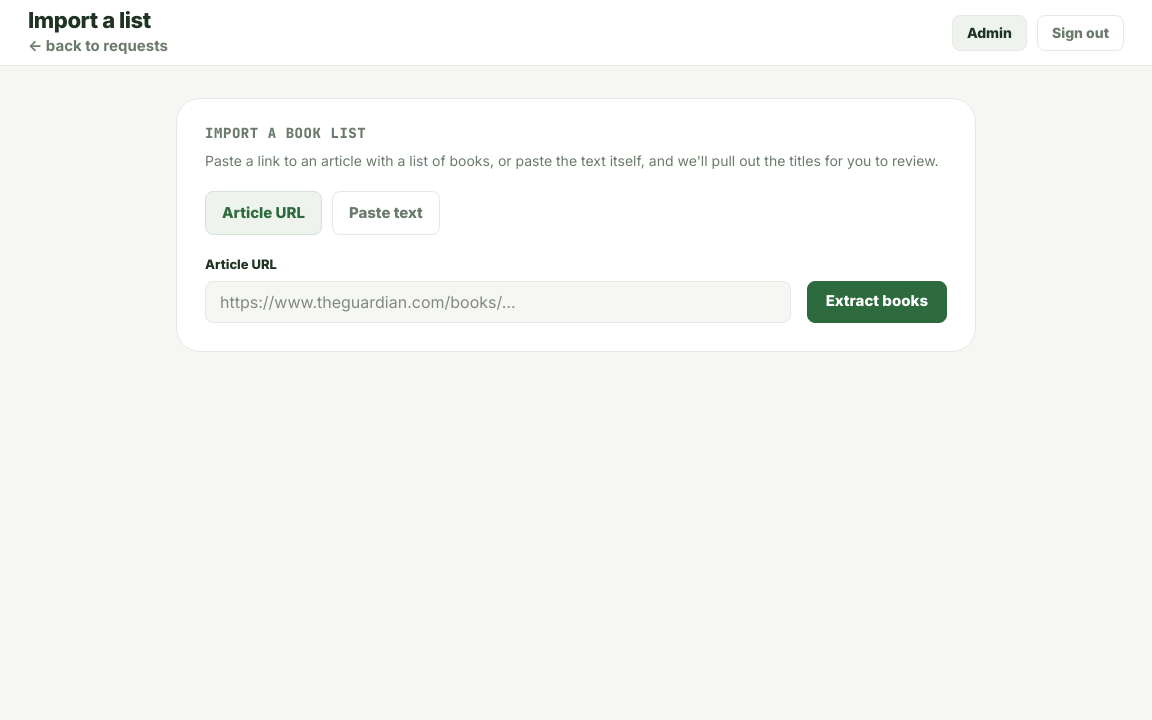
ImportRoute — input stage › switches to the paste tab and submits text
Step 1. Click the tab "Paste text" → click(386, 213), box [332,191,440,235]
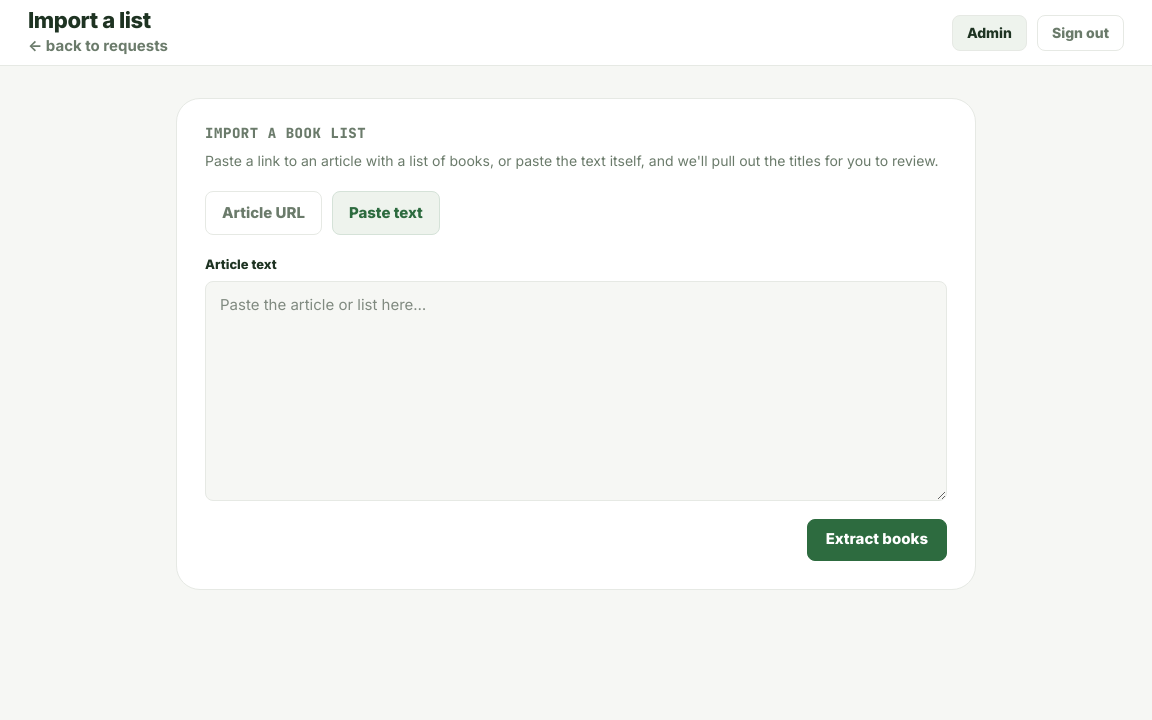
Step 2. Type "Some article about books" into the text box labelled "Article text" → (576, 390), box [205,280,947,500]
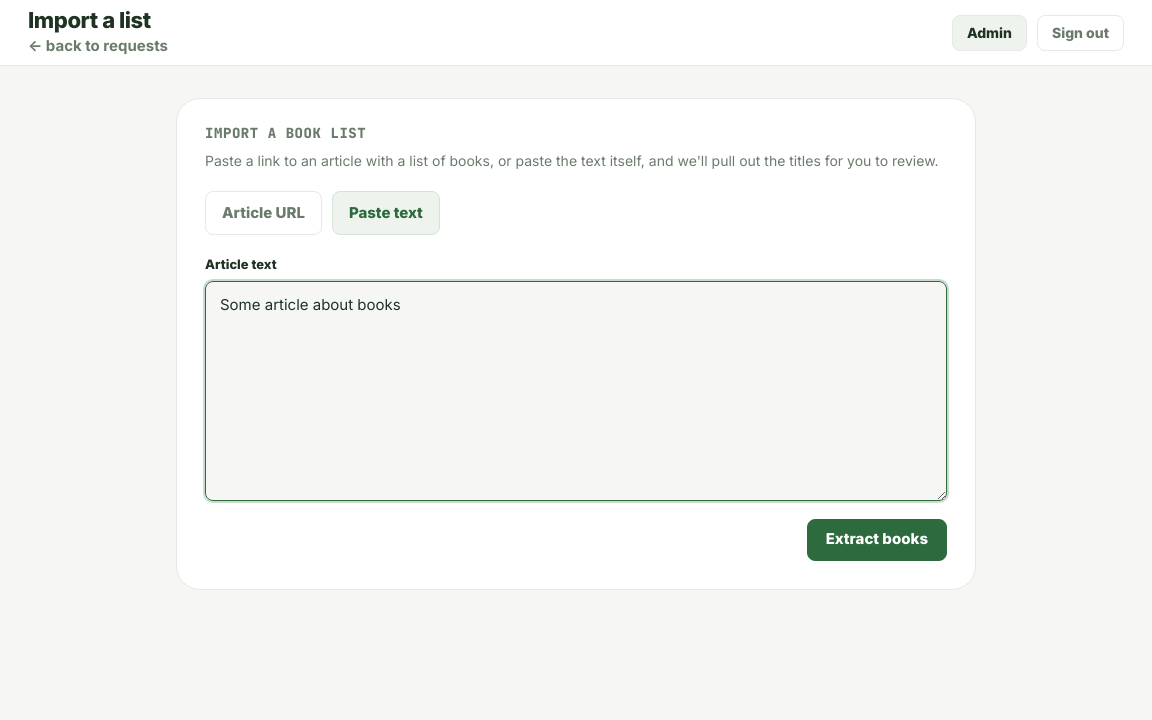
Step 3. Click the button "Extract books" → click(877, 540), box [807,518,947,560]
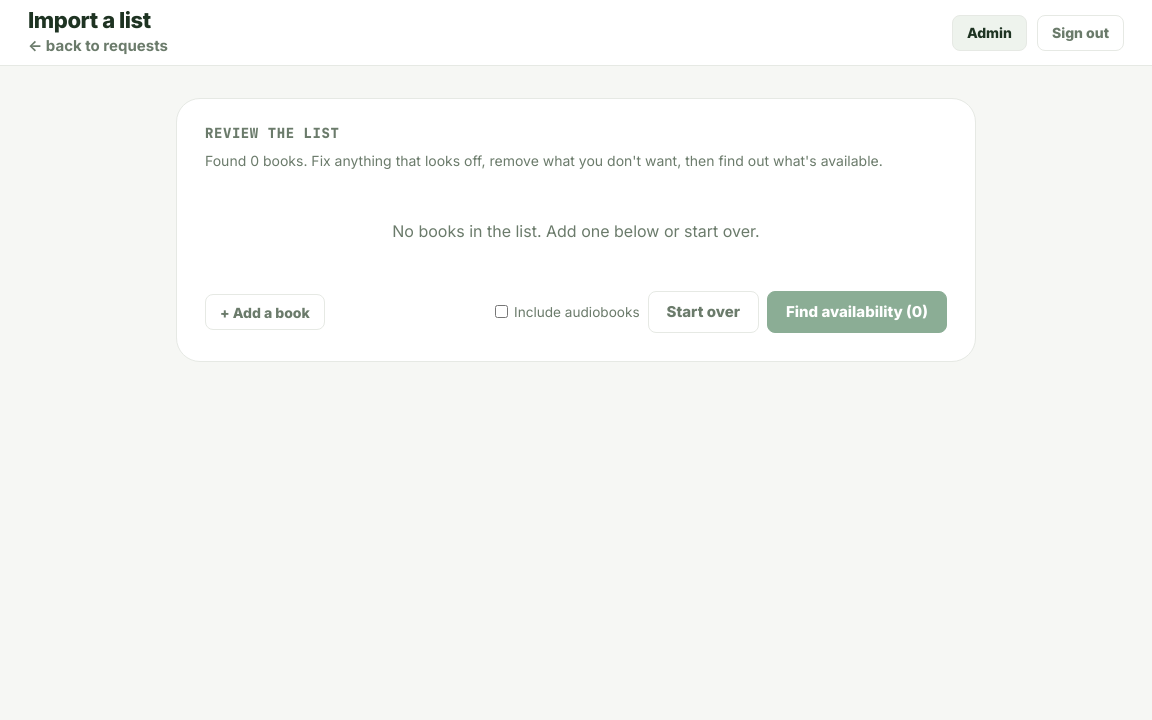
Result: the element with test id "import-review" is shown at [176,98,976,362]
Result: the element with test id "import-review" shows "No books in the list" at [392,221,760,241]
